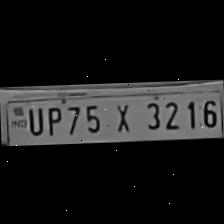1: (180, 96, 198, 130)
2: (160, 96, 180, 130)
3: (138, 96, 160, 130)
5: (80, 100, 104, 134)
6: (198, 94, 218, 127)
7: (63, 100, 81, 135)
P: (42, 102, 62, 136)
U: (24, 102, 42, 136)
X: (107, 98, 134, 132)
